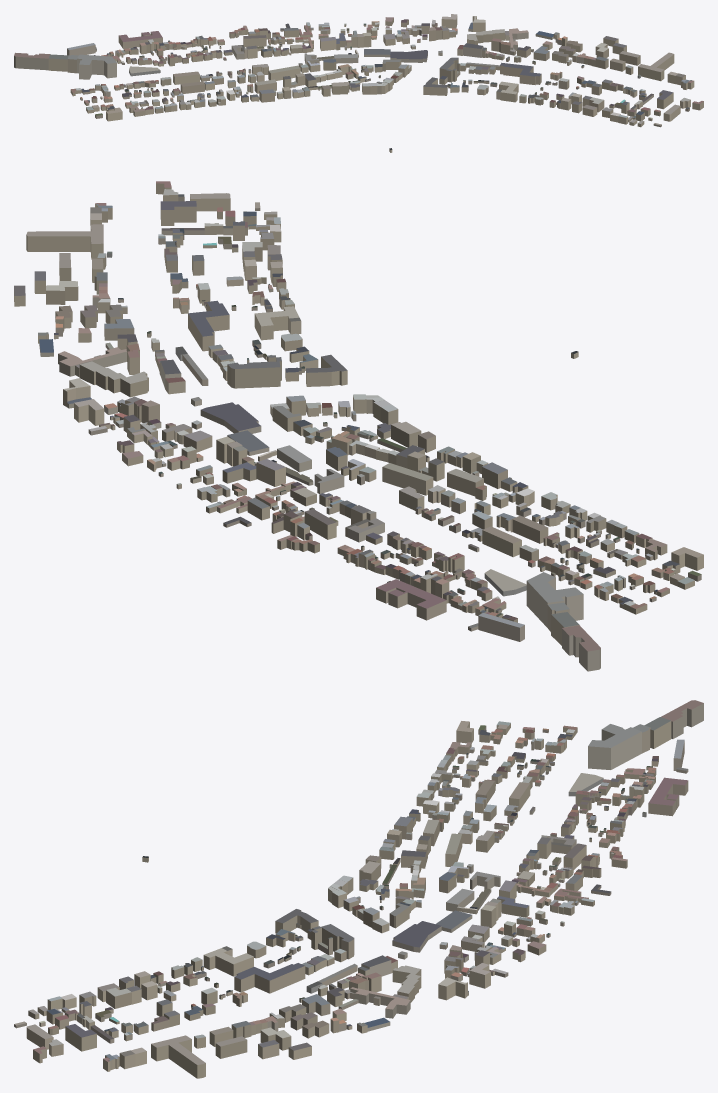
3 renders of one model, top to bottom at view 1: azimuth 30°, elevation 25°; view 2: azimuth 150°, elevation 25°; view 3: azimuth 270°, elevation 25°, orthographic. The views are drawn at different scales.
Parts seen in each view (by area): view 1: tuile; view 2: tuile; view 3: tuile.
Part boxes in pixels (x1,y1,x2,y2): tuile: (14,14,703,152); tuile: (14,181,703,671); tuile: (14,700,703,1078).
Size of the model in its own units: 1040 by 33.38 by 827.
